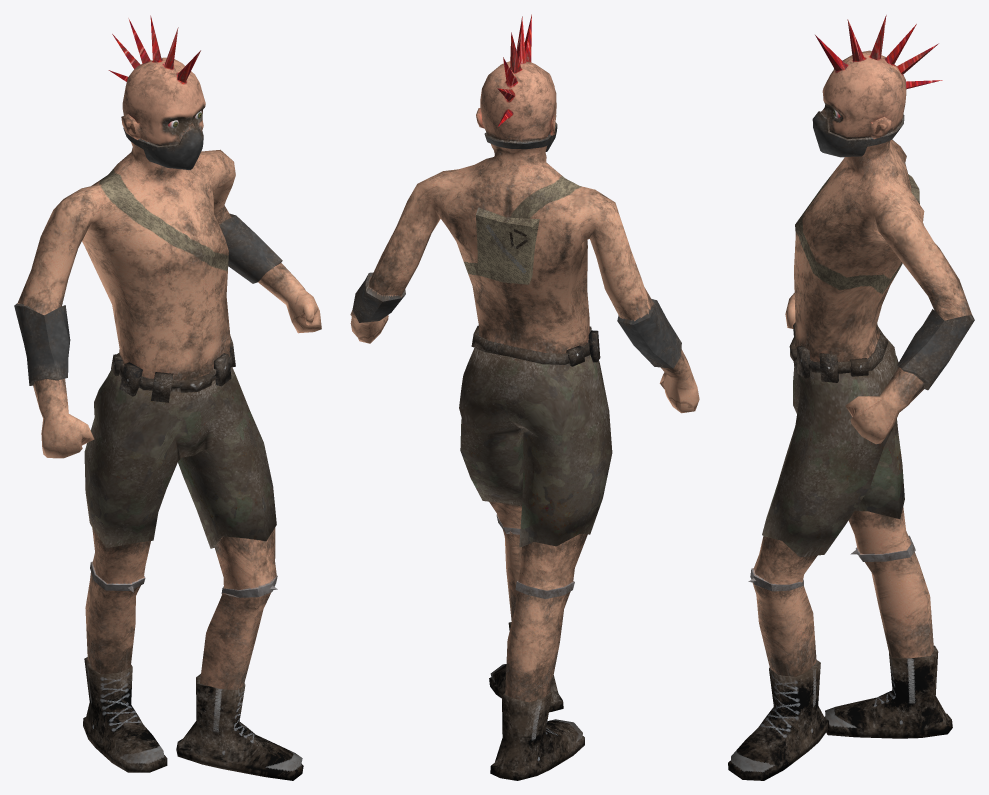
File: Anim_ataque_f2_npc2.0012.obj
The picture shows the model from 3 angles, left to right: view 1: azimuth 30°, elevation 25°; view 2: azimuth 150°, elevation 25°; view 3: azimuth 270°, elevation 25°; orthographic projection.
Visible parts, largest first — view 1: polySurface1; view 2: polySurface1; view 3: polySurface1.
Part boxes in pixels (box(x1,y1,x2,y2)): polySurface1: box(14, 15, 321, 780); polySurface1: box(350, 14, 699, 780); polySurface1: box(728, 15, 974, 780).
Bounding box in the file's own units: 4.49 × 10.07 × 3.09.
